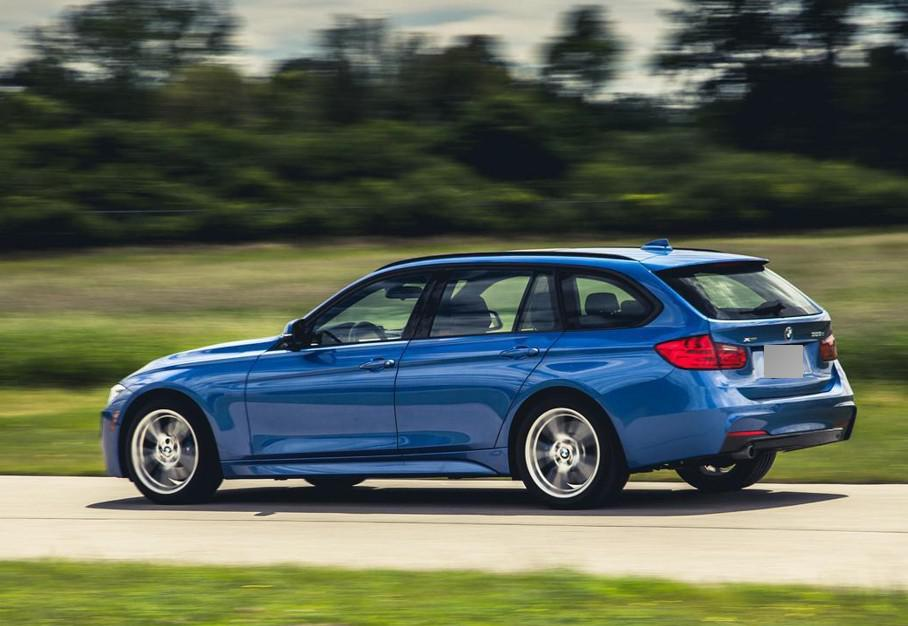Wagon: (104, 248, 857, 510)
